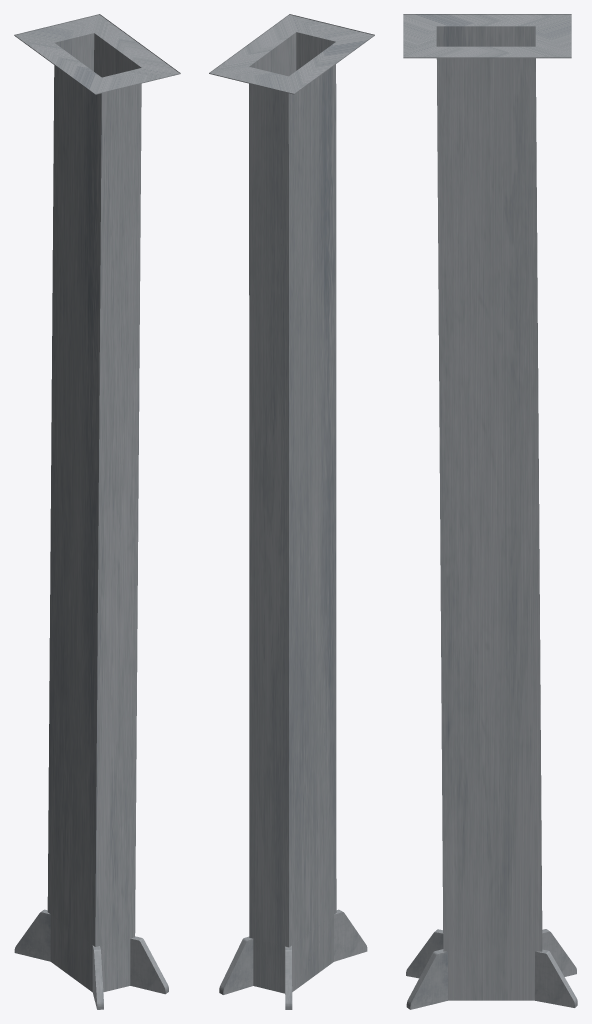
Rendered from columna_metal.glb.
The picture shows the model from 3 angles, left to right: view 1: azimuth 30°, elevation 25°; view 2: azimuth 150°, elevation 25°; view 3: azimuth 270°, elevation 25°; orthographic projection. The views are drawn at different scales.
Parts seen in each view (by area): view 1: a_viga_export; view 2: a_viga_export; view 3: a_viga_export.
Boxes of the visible parts, x1=… form: a_viga_export: x1=14, y1=14, x2=180, y2=1009; a_viga_export: x1=209, y1=14, x2=374, y2=1009; a_viga_export: x1=403, y1=14, x2=577, y2=1009.
Size of the model in its own units: 1.71 by 17.55 by 2.9.
Materials: 1 (1 with a texture image).
